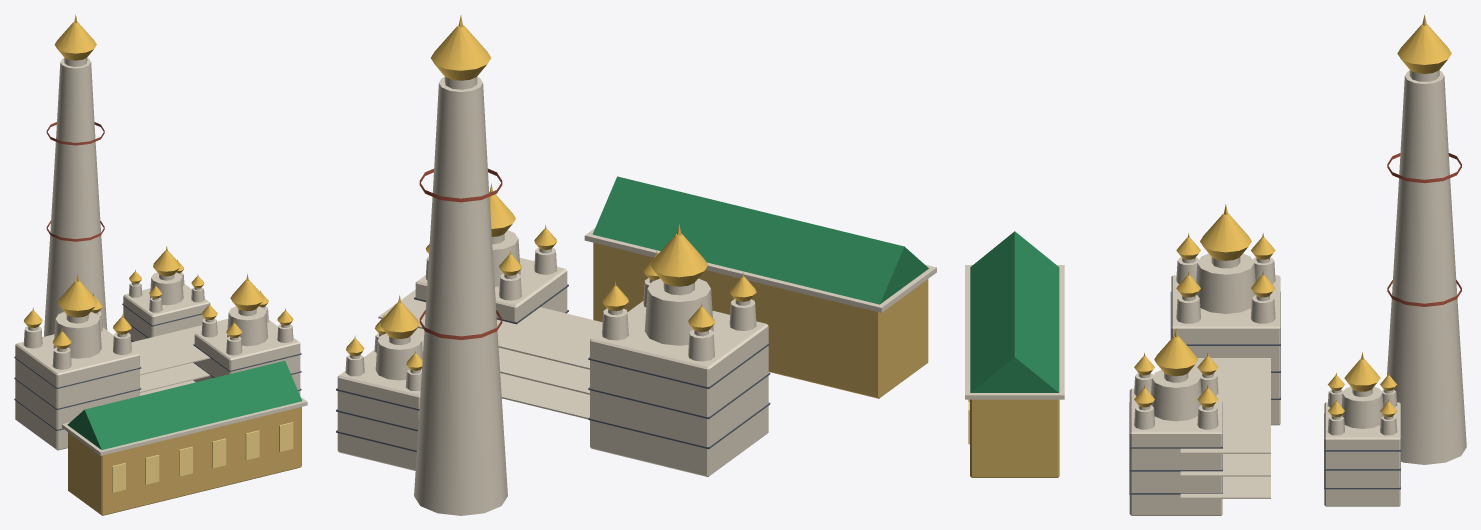
Rendered from lmk_kremlin_inside.glb.
3 views of the same model, side by side, from view 1: azimuth 30°, elevation 25°; view 2: azimuth 150°, elevation 25°; view 3: azimuth 270°, elevation 25° (orthographic). The views are drawn at different scales.
Visible parts, largest first — view 1: lmk_kremlin_inside; view 2: lmk_kremlin_inside; view 3: lmk_kremlin_inside.
Part boxes in pixels (x1,y1,x2,y2): lmk_kremlin_inside: [14, 14, 307, 515]; lmk_kremlin_inside: [336, 15, 936, 515]; lmk_kremlin_inside: [965, 15, 1466, 515].
Bounding box in the file's own units: 16.22 × 19.25 × 20.2.
1 material, 1 textured.
